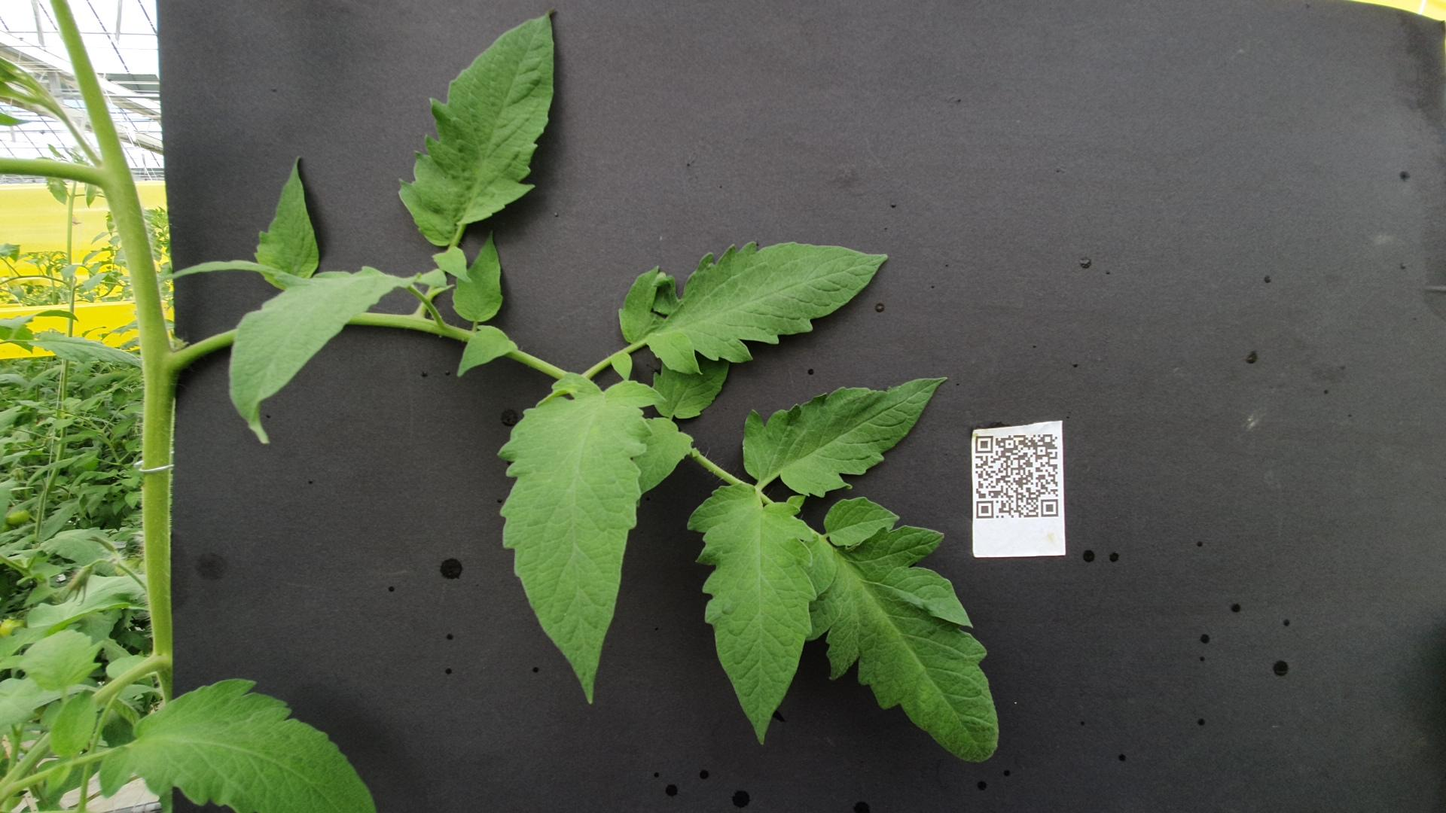Healthy: (182, 273, 769, 374), (85, 456, 513, 563), (1000, 222, 1430, 315), (0, 53, 242, 215), (774, 346, 1024, 501), (121, 384, 590, 460), (653, 127, 979, 235), (559, 417, 776, 536), (933, 141, 1174, 181), (878, 252, 1041, 284), (705, 365, 806, 413), (570, 356, 707, 390), (472, 462, 562, 508), (93, 27, 223, 56), (774, 255, 873, 293)
